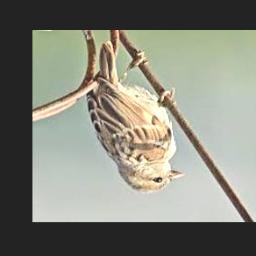Sparrow: (87, 41, 185, 193)
